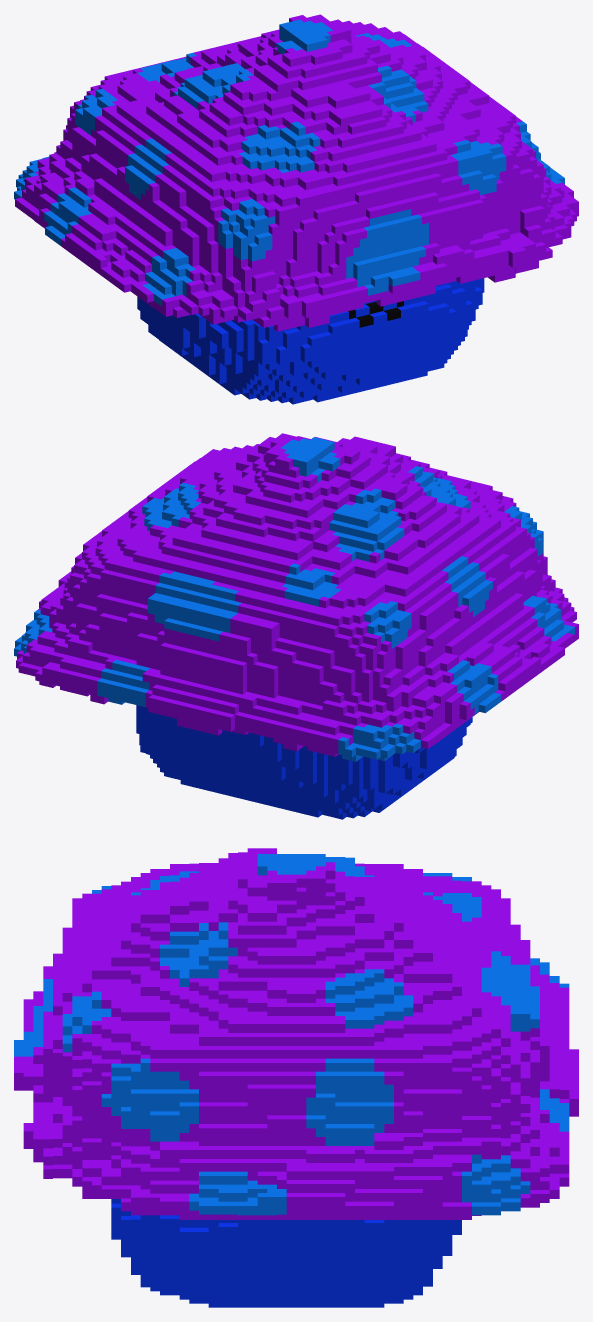
The model's file is Mushroom.obj.
3 renders of one model, top to bottom at view 1: azimuth 30°, elevation 25°; view 2: azimuth 150°, elevation 25°; view 3: azimuth 270°, elevation 25°, orthographic. The views are drawn at different scales.
Size of the model in its own units: 6.4 by 4.3 by 5.8.
Materials: 1 (1 with a texture image).
